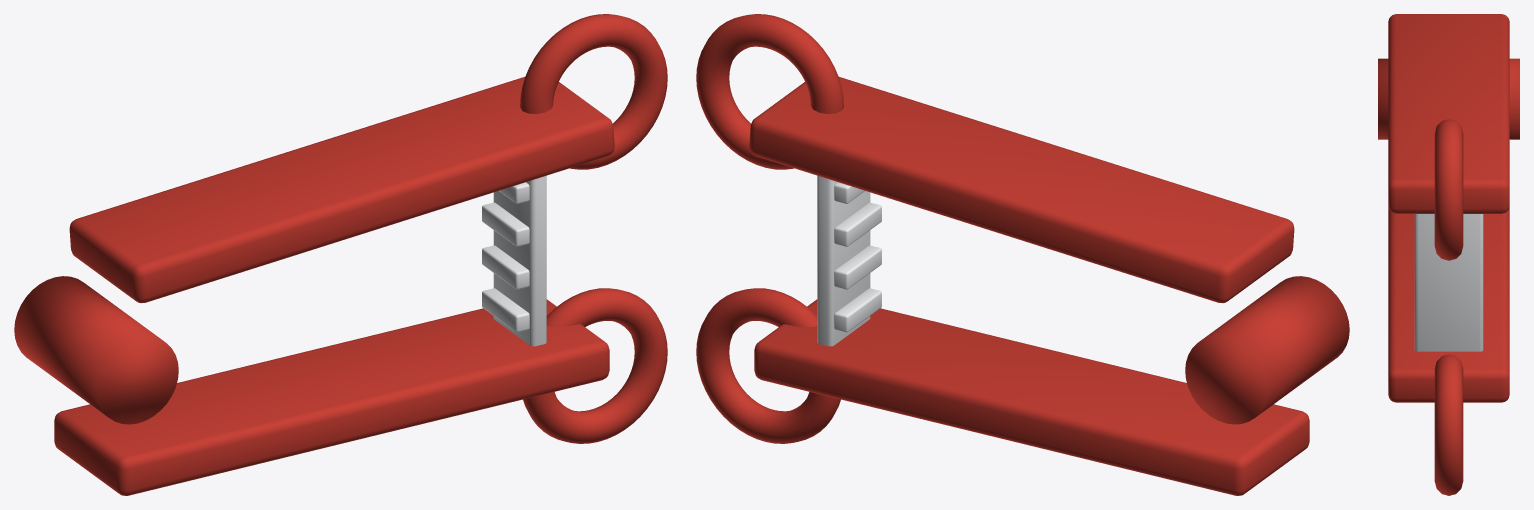
The model's file is circuit-clamp.glb.
3 views of the same model, side by side, from view 1: azimuth 30°, elevation 25°; view 2: azimuth 150°, elevation 25°; view 3: azimuth 270°, elevation 25° (orthographic). The views are drawn at different scales.
Visible parts, largest first — view 1: circuit_clamp; view 2: circuit_clamp; view 3: circuit_clamp.
Part boxes in pixels (x1=…): circuit_clamp: x1=14, y1=14, x2=667, y2=495; circuit_clamp: x1=696, y1=14, x2=1349, y2=495; circuit_clamp: x1=1378, y1=14, x2=1519, y2=495.
Size of the model in its own units: 0.298 by 0.198 by 0.07.
